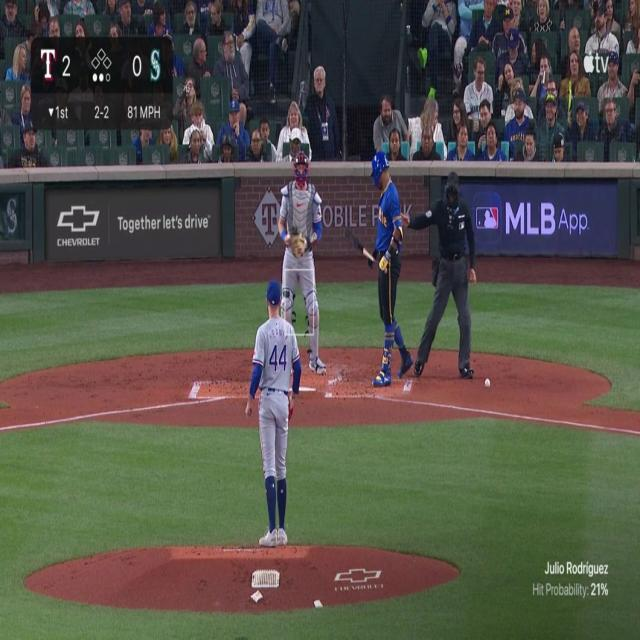Bat: (340, 227, 391, 270)
Player: (222, 239, 313, 552)
